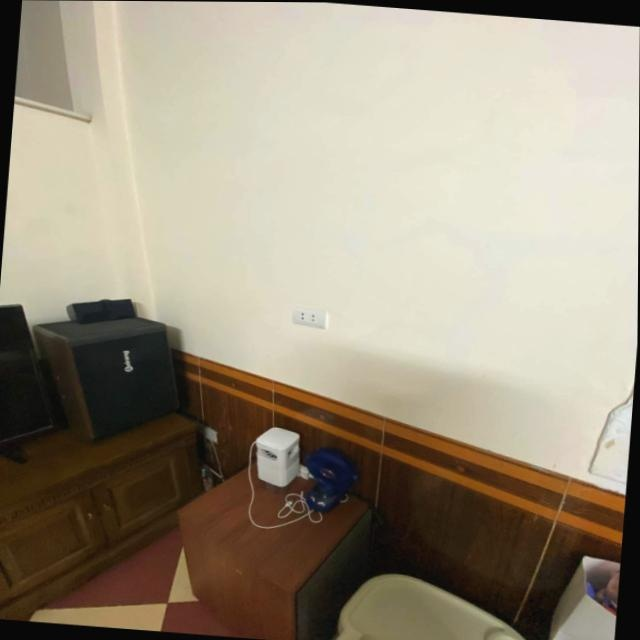outlet: (290, 306, 327, 328)
